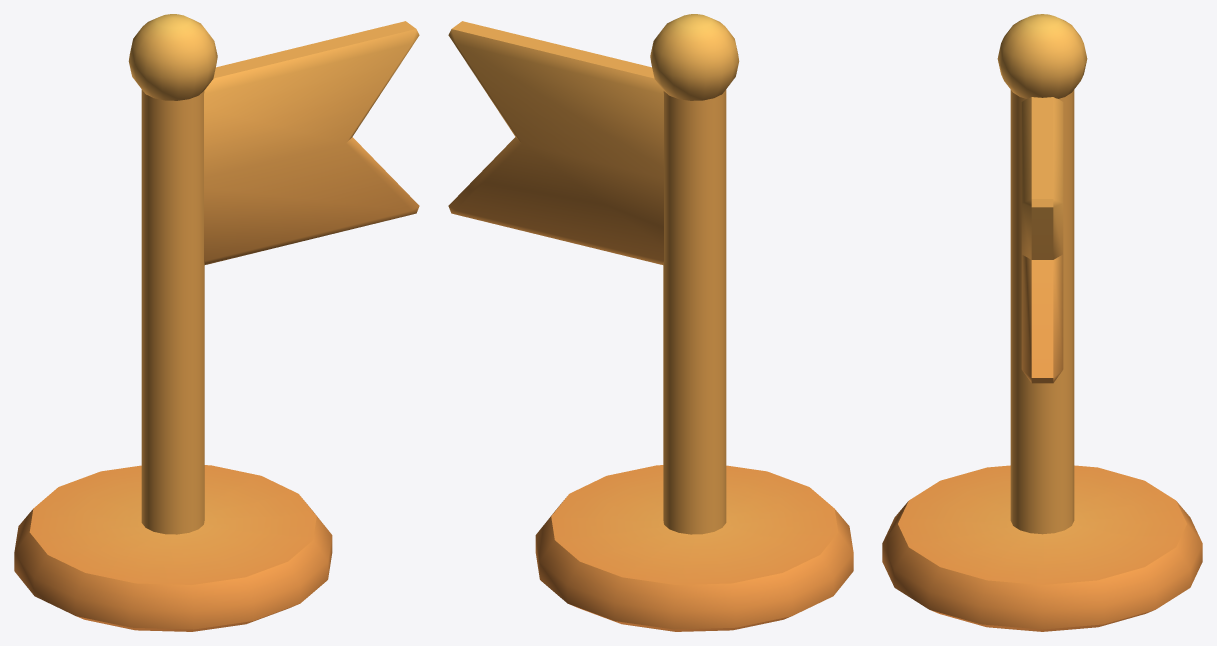
The model's file is flag_B_yellow.glb.
The picture shows the model from 3 angles, left to right: view 1: azimuth 30°, elevation 25°; view 2: azimuth 150°, elevation 25°; view 3: azimuth 270°, elevation 25°; orthographic projection.
Visible parts, largest first — view 1: flag_B_yellow; view 2: flag_B_yellow; view 3: flag_B_yellow.
Boxes of the visible parts, x1,y1,x2,y2 form: flag_B_yellow: [14, 14, 419, 631]; flag_B_yellow: [448, 14, 853, 631]; flag_B_yellow: [882, 14, 1202, 631].
Bounding box in the file's own units: 1.03 × 1.43 × 0.75.
1 material, 1 textured.
